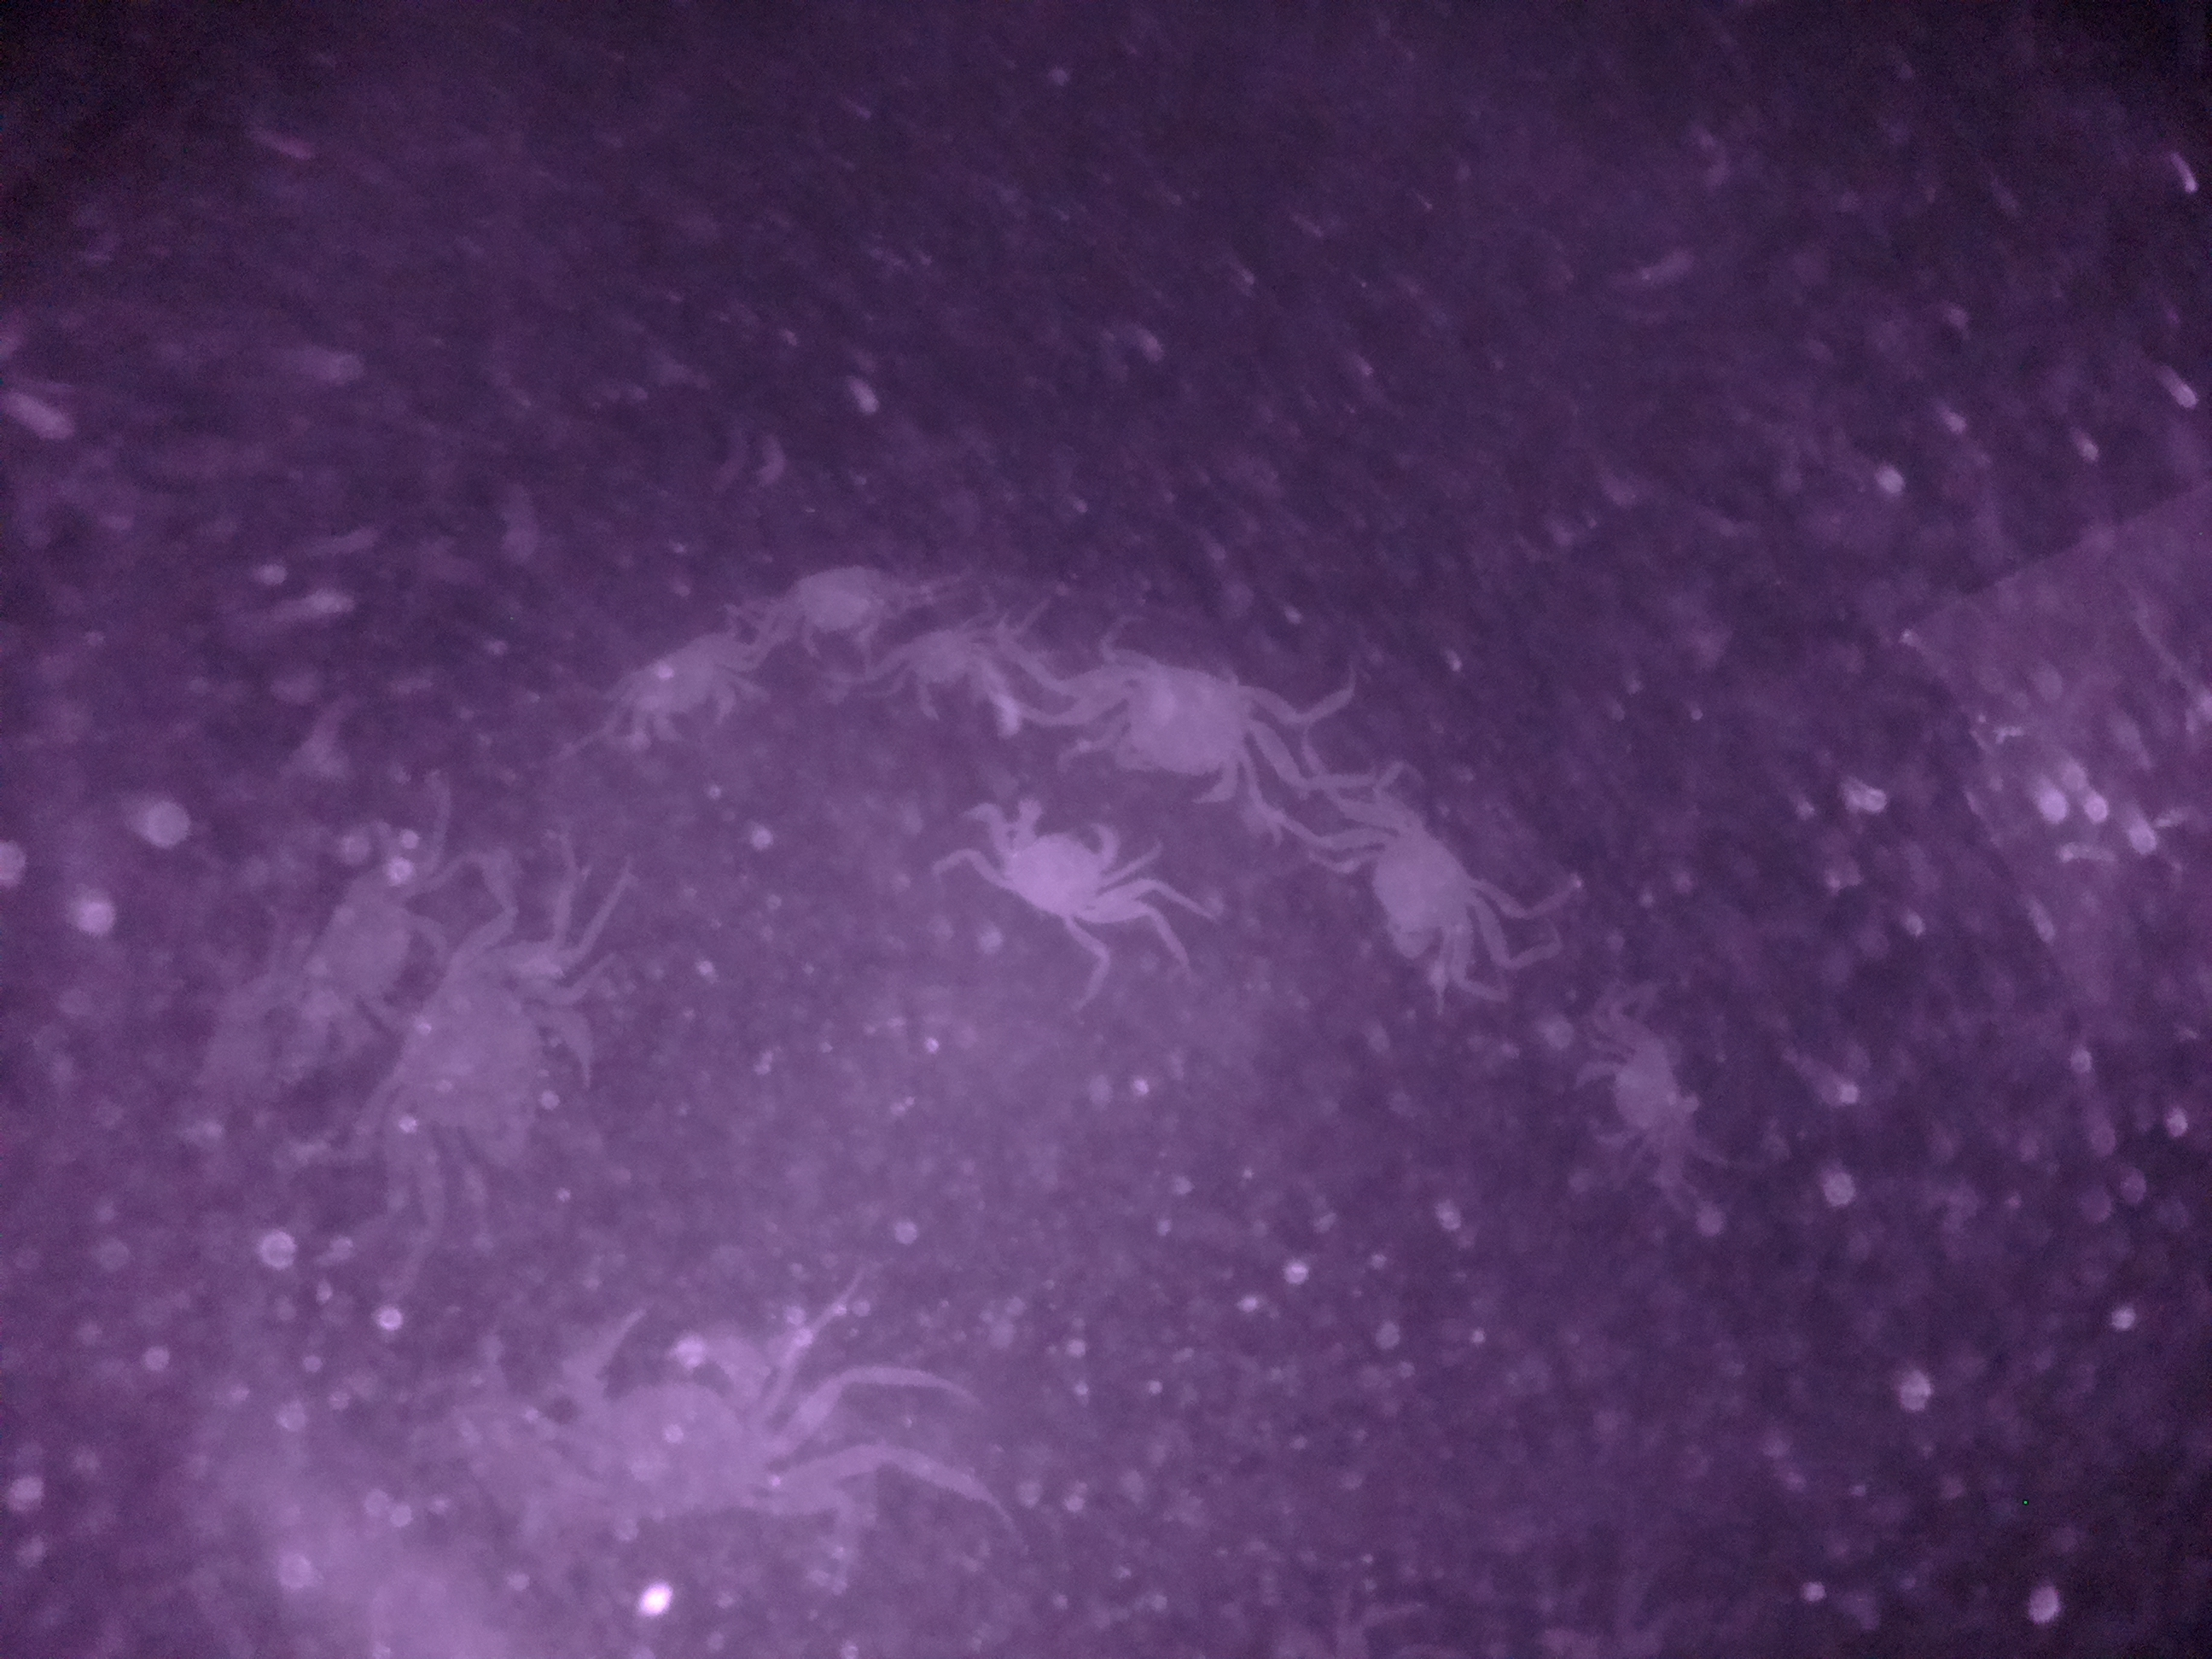Crab: (1087, 636, 1303, 817), (1325, 767, 1514, 972), (975, 781, 1163, 948)
